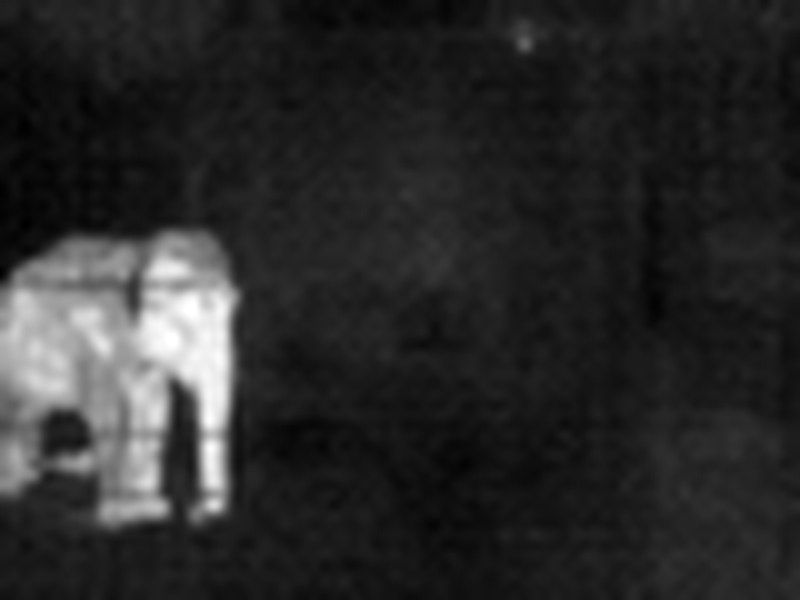elephant: (5, 228, 249, 538)
